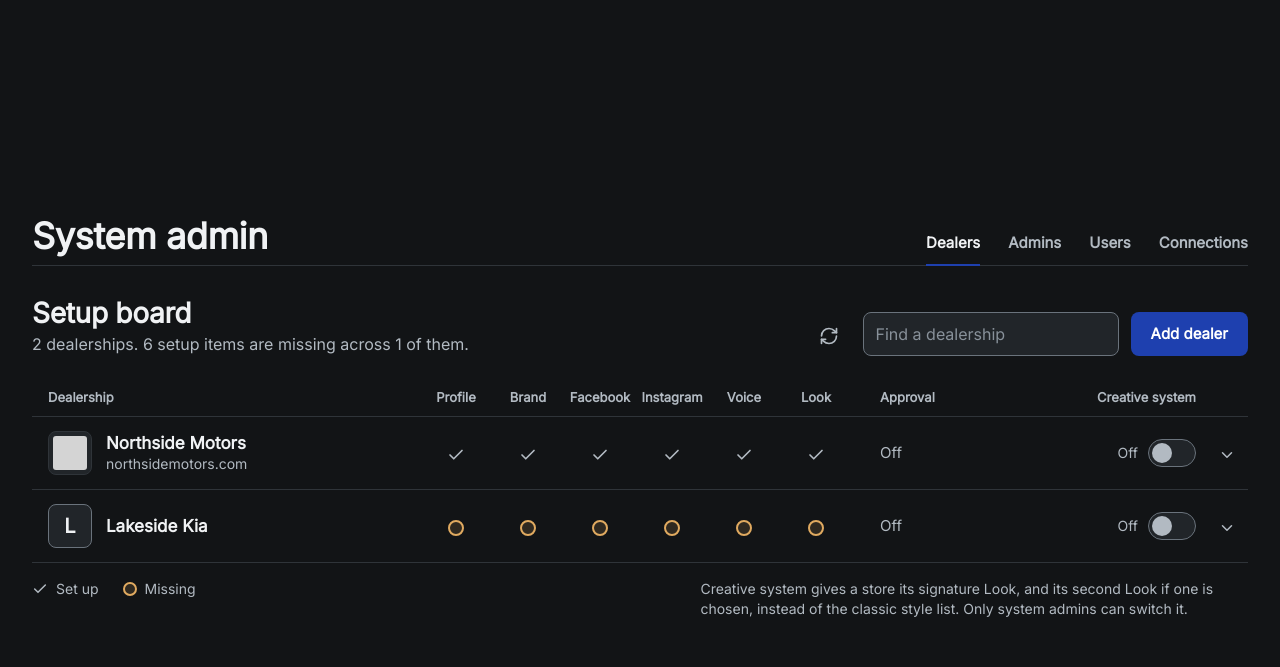
Test: system admin hub › opens a board row's Admins and Users on that store
The image size is (1280, 667).
(page scrolled)
Click the button "L Lakeside Kia".
click(70, 526)  # box [48,498,408,554]
(page scrolled)
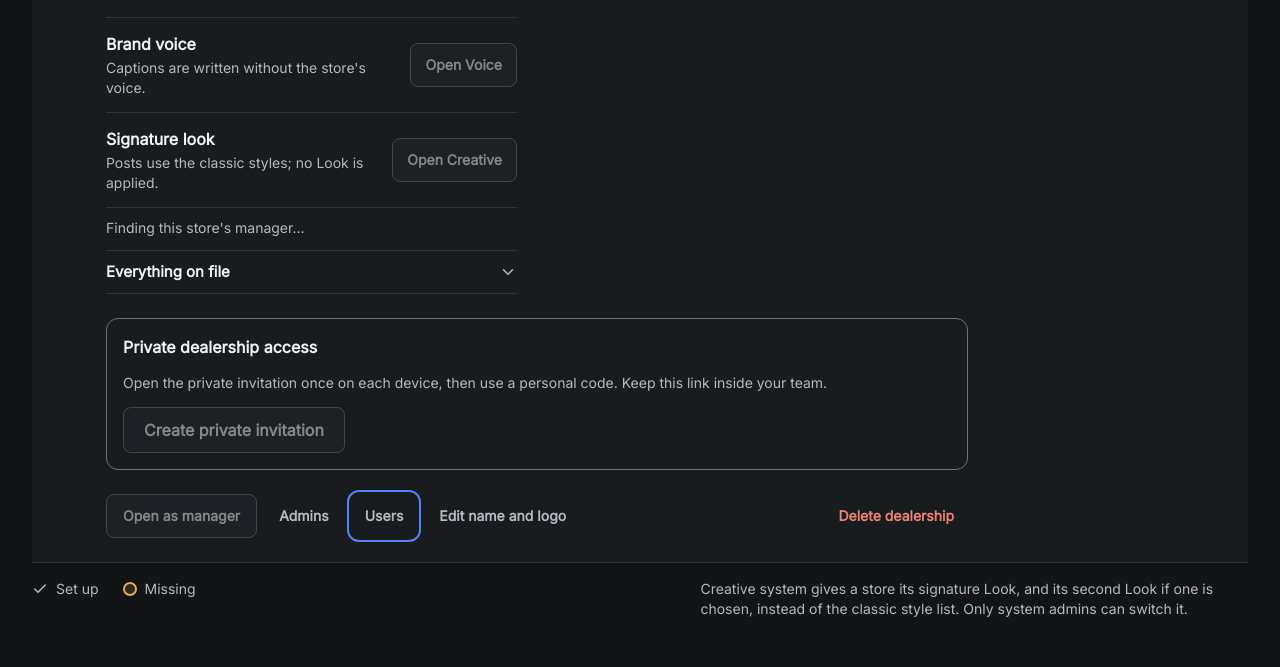
Click the button "Users".
click(384, 516)  # box [351,494,417,538]
(page scrolled)
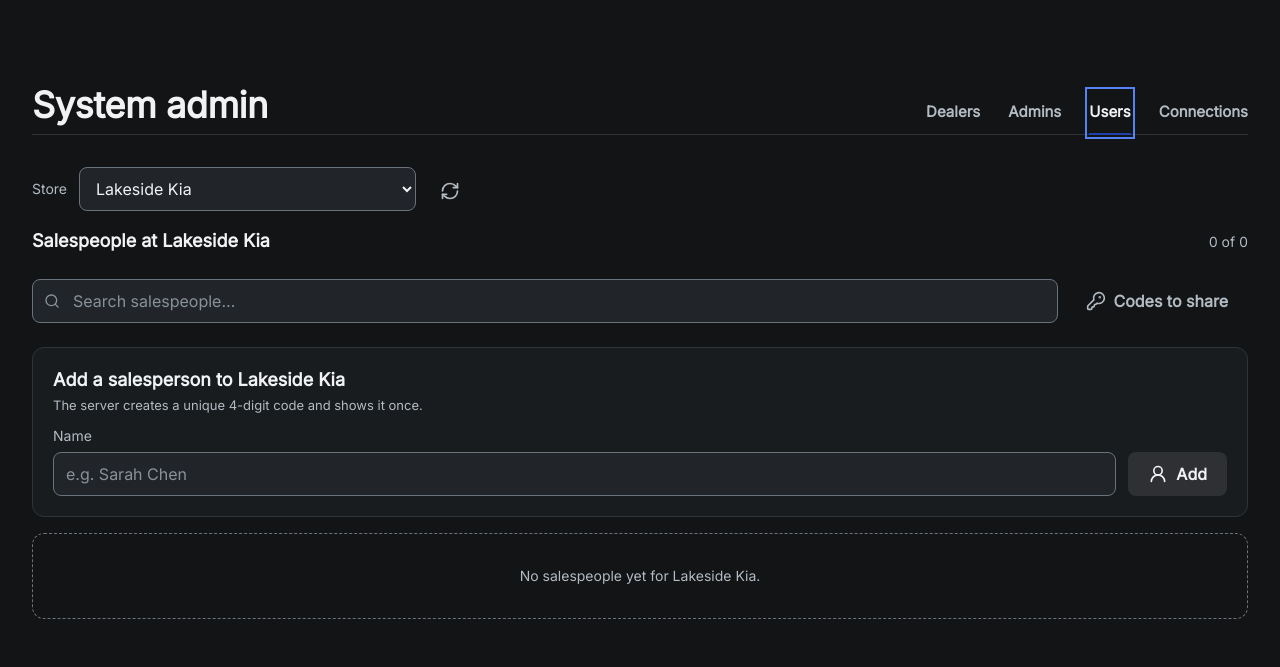
Expected: the dropdown labelled "Store" shows "Lakeside Kia", [79,167,416,211]
Expected: the heading "Salespeople at Lakeside Kia" is shown, [32,227,270,255]
Expected: the heading "Add a salesperson to Lakeside Kia" is shown, [53,369,345,390]
